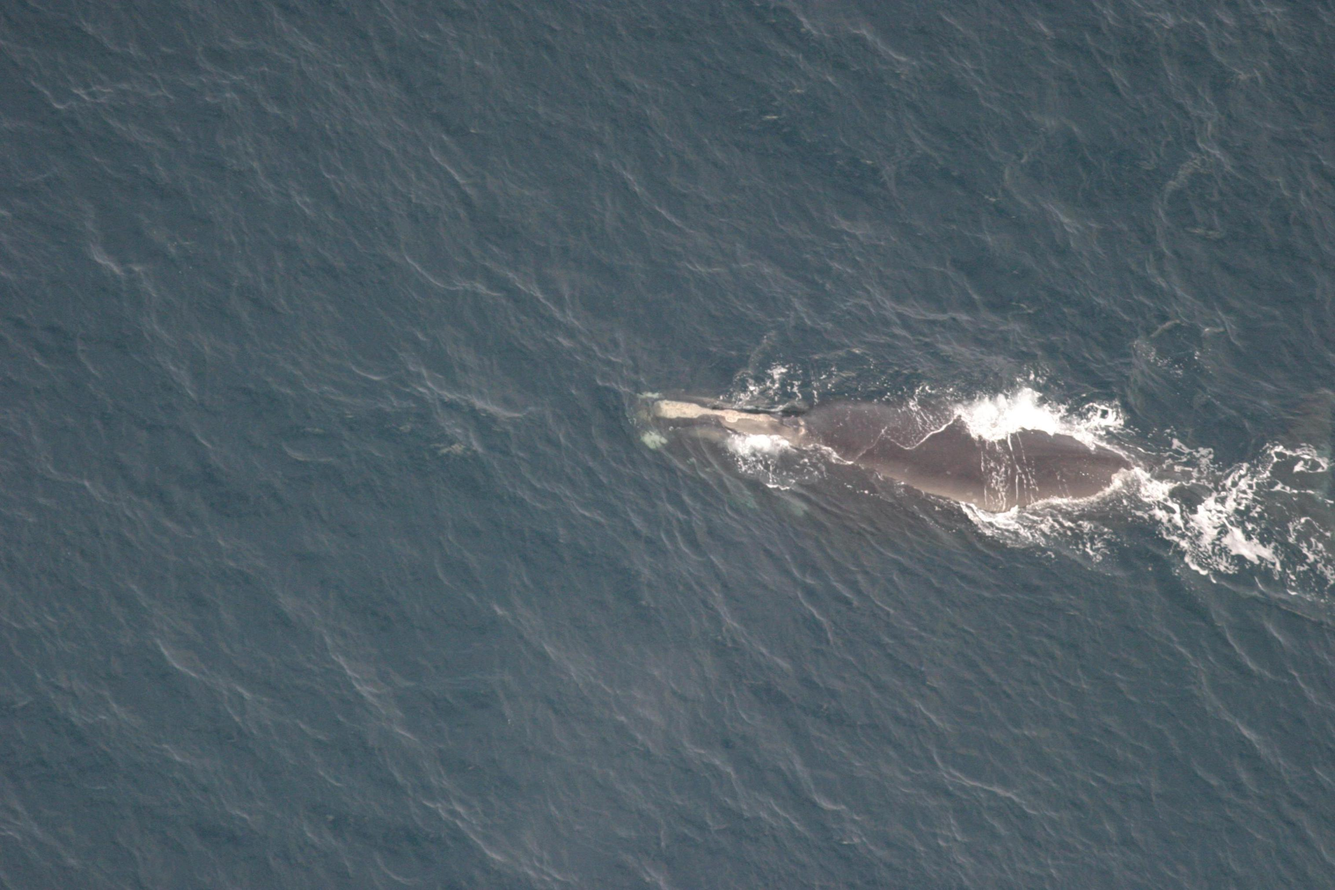whale: (622, 356, 1335, 607)
